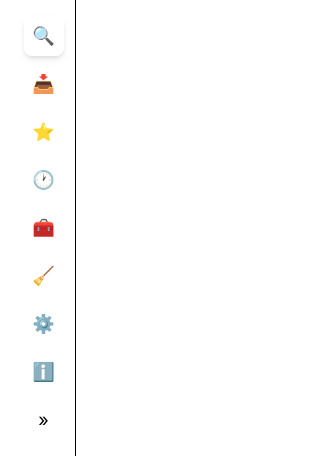
Scenario: Sidebar › 点击 toggle 后展开：容器变为 w-52，标签出现，菜单 title 被移除
The width and height of the screenshot is (332, 473).
Expected: the text "漫画库" is not shown
Click the button titled "展开侧边栏" at x=44, y=420, box [24, 400, 64, 440]
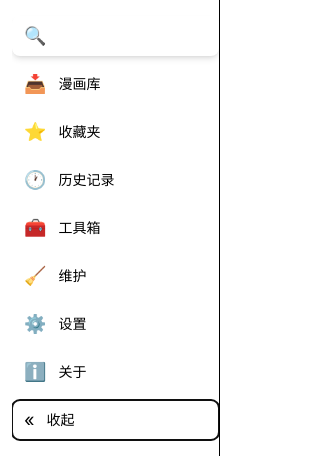
Now the text "漫画库" is shown, box [58, 74, 100, 94]
